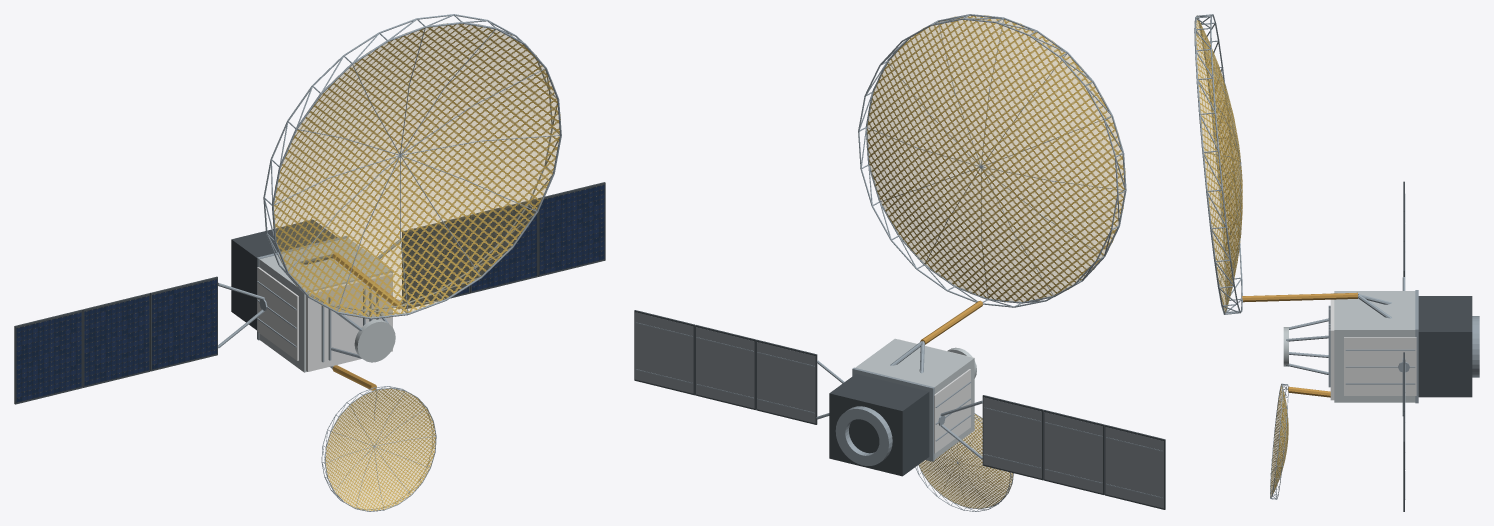
The model's file is a2100-muos.glb.
3 views of the same model, side by side, from view 1: azimuth 30°, elevation 25°; view 2: azimuth 150°, elevation 25°; view 3: azimuth 270°, elevation 25° (orthographic). The views are drawn at different scales.
Parts seen in each view (by area): view 1: Deployable mesh reflector (×2), Solar cell panel (×6), Earth-facing deck, Payload module, Service module, Radiator face, Solar panel frame (×3), Antenna tower platform; view 2: Deployable mesh reflector (×2), Rear array substrate (×6), Service module, Payload module, Radiator face, Launch adapter ring, Module interface; view 3: Deployable mesh reflector (×2), Service module, Payload module, Radiator face, Reflector deployment boom, Earth-facing deck, Launch adapter ring, Module interface.
Boxes of the visible parts, <box> form: Deployable mesh reflector (×2): <box>273,23,560,510</box>; Solar cell panel (×6): <box>16,184,604,402</box>; Earth-facing deck: <box>306,272,392,371</box>; Payload module: <box>259,238,392,372</box>; Service module: <box>231,219,337,330</box>; Radiator face: <box>257,267,298,360</box>; Solar panel frame (×3): <box>14,182,605,404</box>; Antenna tower platform: <box>354,319,395,362</box>; Deployable mesh reflector (×2): <box>866,15,1125,508</box>; Rear array substrate (×6): <box>635,312,1163,508</box>; Service module: <box>829,374,929,476</box>; Payload module: <box>855,338,974,459</box>; Radiator face: <box>934,369,970,453</box>; Launch adapter ring: <box>835,406,892,465</box>; Module interface: <box>852,367,934,461</box>; Deployable mesh reflector (×2): <box>1195,20,1288,497</box>; Service module: <box>1418,296,1472,397</box>; Payload module: <box>1334,291,1415,402</box>; Radiator face: <box>1344,337,1416,395</box>; Reflector deployment boom: <box>1242,292,1357,302</box>; Earth-facing deck: <box>1330,293,1334,400</box>; Launch adapter ring: <box>1472,316,1479,377</box>; Module interface: <box>1415,290,1418,403</box>.
Size of the model in its own units: 28.67 by 23.99 by 13.29.
8 materials, 2 textured.
